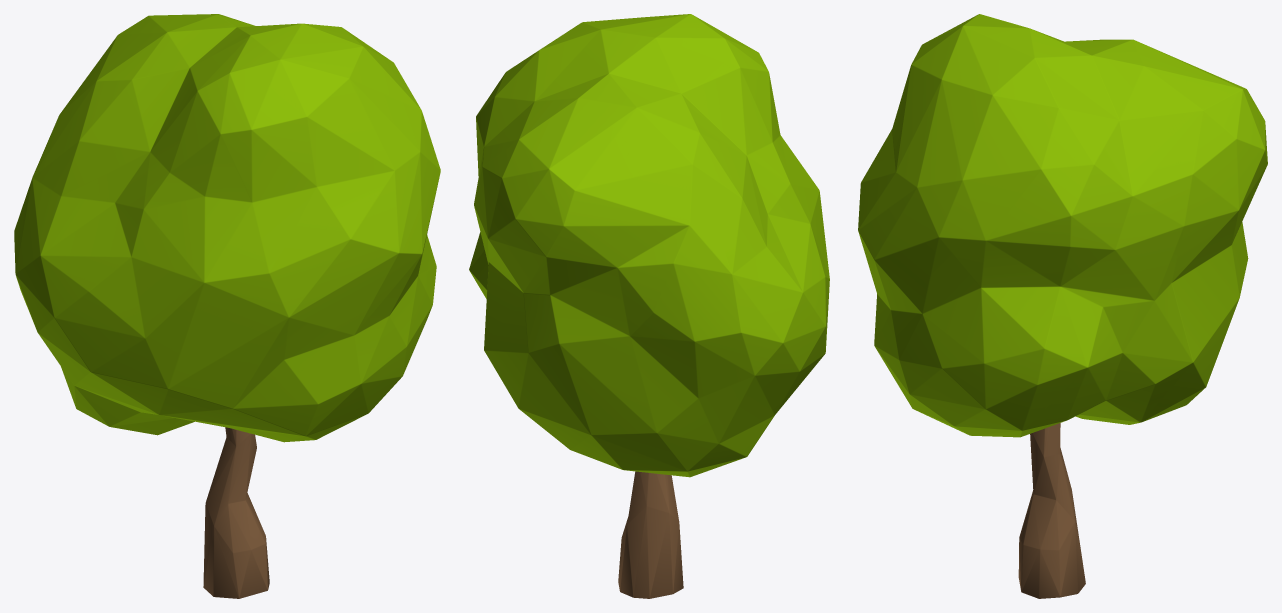
File: Tree_01.glb
3 views of the same model, side by side, from view 1: azimuth 30°, elevation 25°; view 2: azimuth 150°, elevation 25°; view 3: azimuth 270°, elevation 25° (orthographic). The views are drawn at different scales.
Visible parts, largest first — view 1: Tree_01; view 2: Tree_01; view 3: Tree_01.
Boxes of the visible parts, box(x1,y1,x2,y2) form: Tree_01: box(14, 14, 440, 598); Tree_01: box(469, 14, 829, 598); Tree_01: box(858, 14, 1267, 598).
Size of the model in its own units: 0.0813 by 0.1207 by 0.08.
